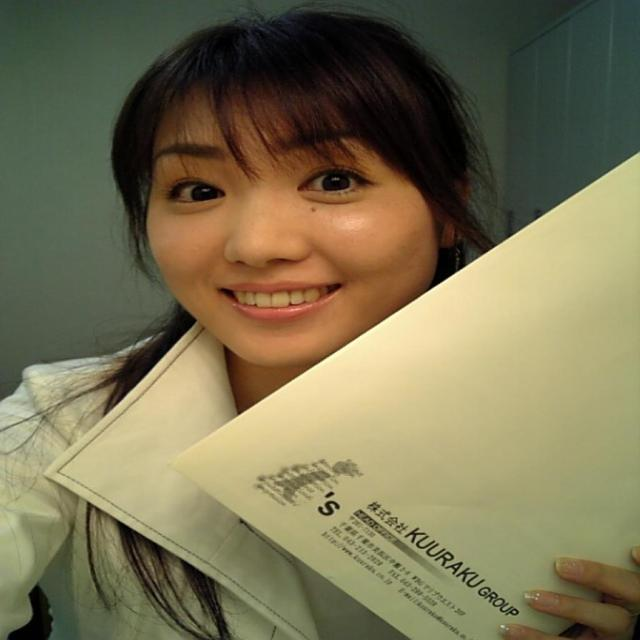Face: (114, 91, 452, 377)
